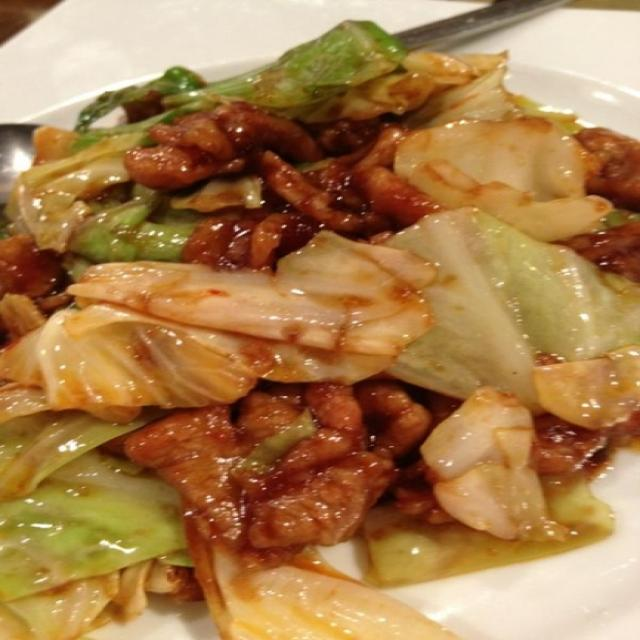面包点心: (64, 7, 548, 616)
